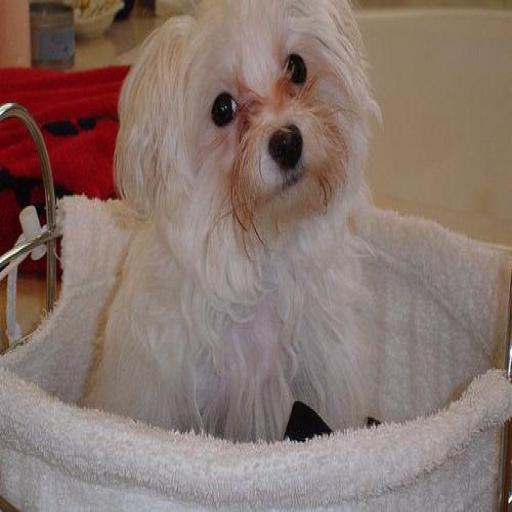dog_face: (115, 4, 382, 247)
